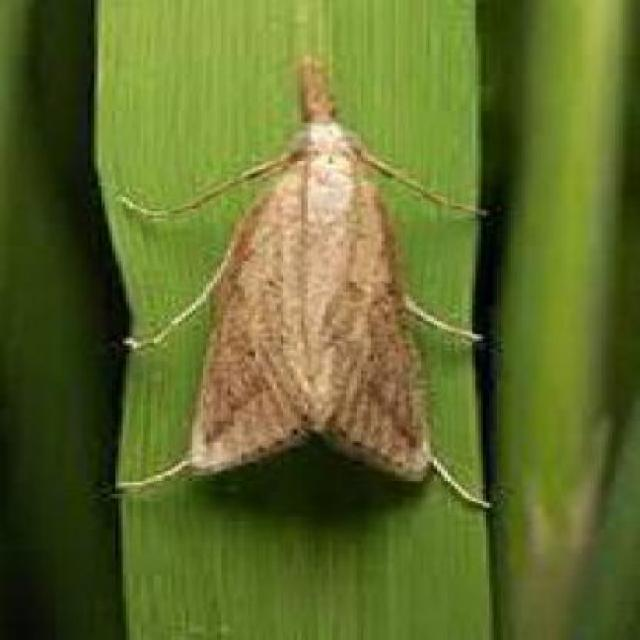stem-borer: (117, 52, 485, 517)
